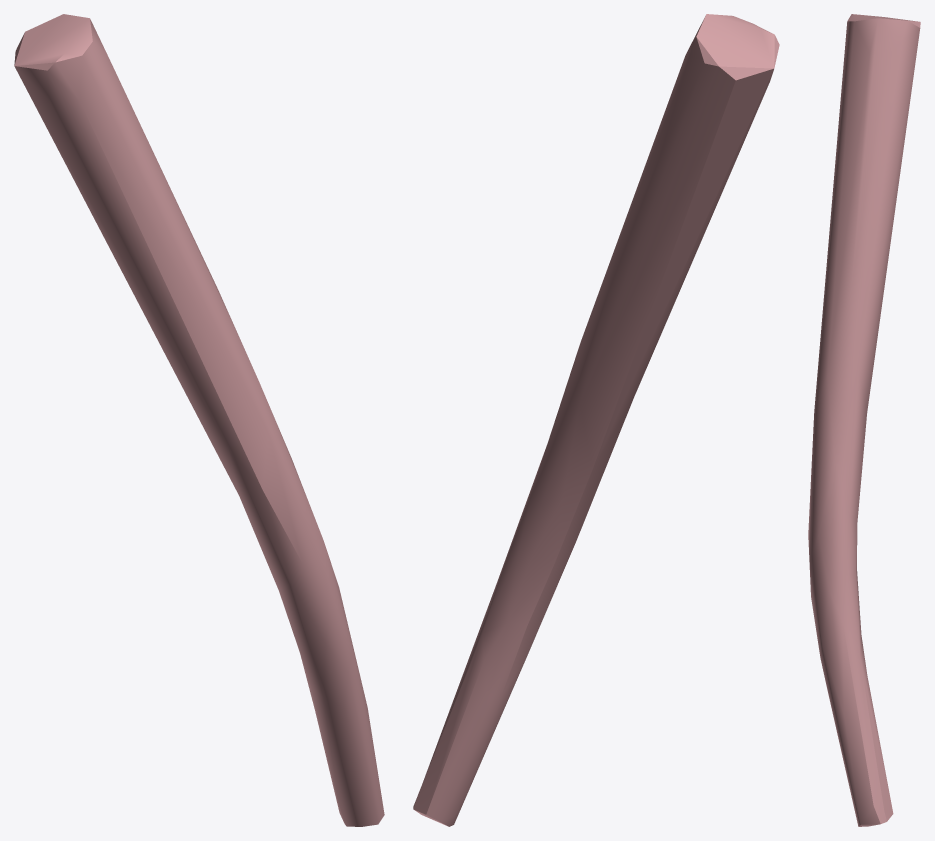
The model's file is fma68231_fj2538.glb.
3 views of the same model, side by side, from view 1: azimuth 30°, elevation 25°; view 2: azimuth 150°, elevation 25°; view 3: azimuth 270°, elevation 25° (orthographic). The views are drawn at different scales.
Visible parts, largest first — view 1: FMA68231_FJ2538; view 2: FMA68231_FJ2538; view 3: FMA68231_FJ2538.
Part boxes in pixels (box(x1,y1,x2,y2)): FMA68231_FJ2538: box(14, 14, 384, 826); FMA68231_FJ2538: box(413, 14, 779, 826); FMA68231_FJ2538: box(808, 14, 920, 826).
Size of the model in its own units: 0.0179 by 0.0412 by 0.00597.
